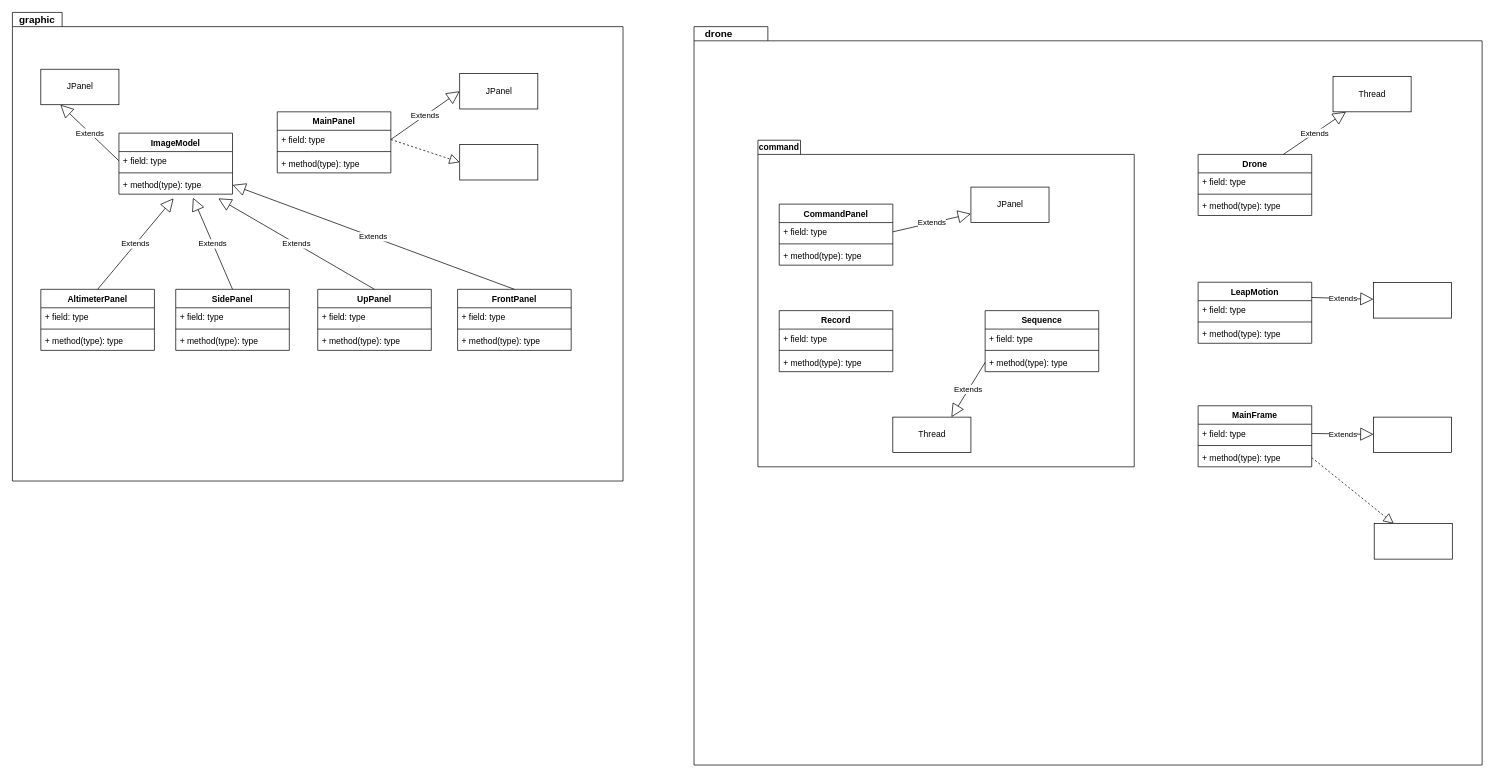
Some shapes in this 1495 by 783 pixel diagram are drawn without their labels. Here are the shapes that lost their labels. From the top down, the centre of each, then its label:
(x=498, y=162): Runnable
(x=1412, y=300): Listener
(x=1412, y=434): JFrame
(x=1412, y=541): KeyListener
